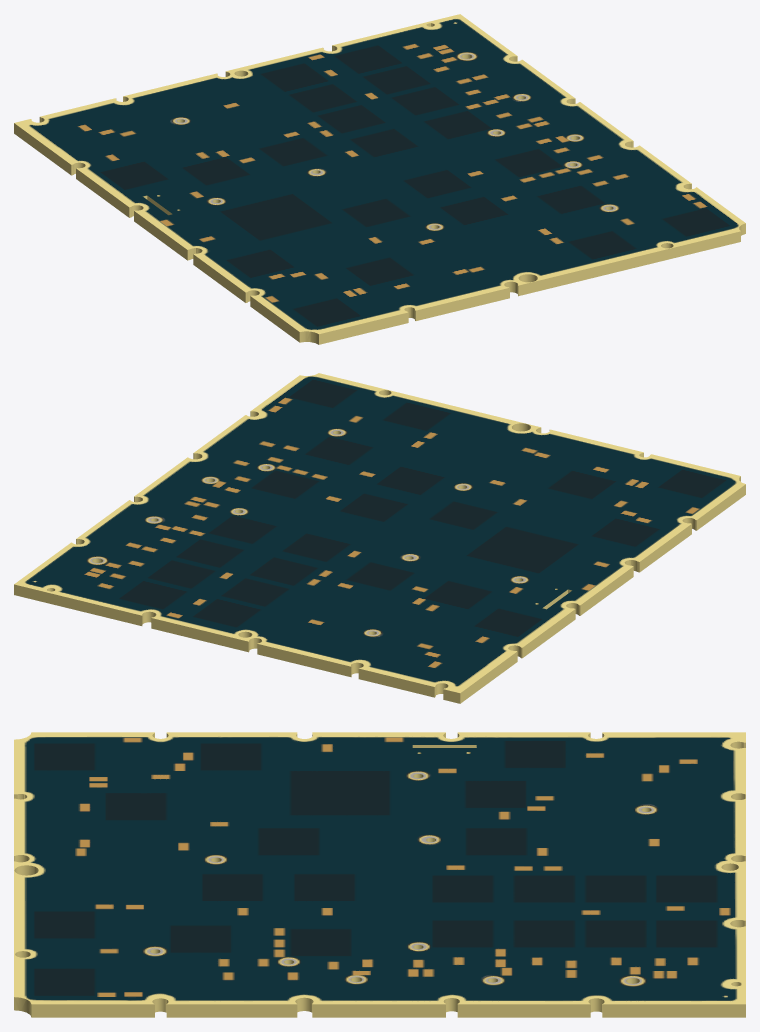
The model's file is DU_電路板_藍.fbx.
The picture shows the model from 3 angles, top to bottom: view 1: azimuth 30°, elevation 25°; view 2: azimuth 150°, elevation 25°; view 3: azimuth 270°, elevation 25°; orthographic projection. The views are drawn at different scales.
Parts seen in each view (by area): view 1: pCube41; view 2: pCube41; view 3: pCube41.
Boxes of the visible parts, x1,y1,x2,y2 form: pCube41: (14, 14, 745, 344); pCube41: (14, 373, 745, 703); pCube41: (14, 732, 745, 1017).
Bounding box in the file's own units: 44 × 1.01 × 50.
Materials: 1 (1 with a texture image).
